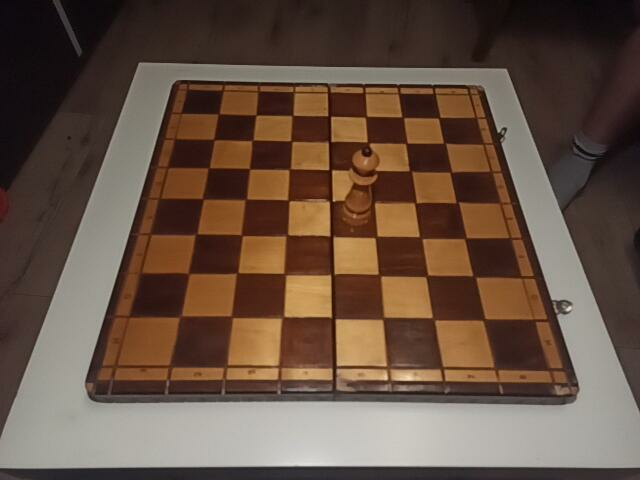W-Queen: (340, 146, 381, 229)
